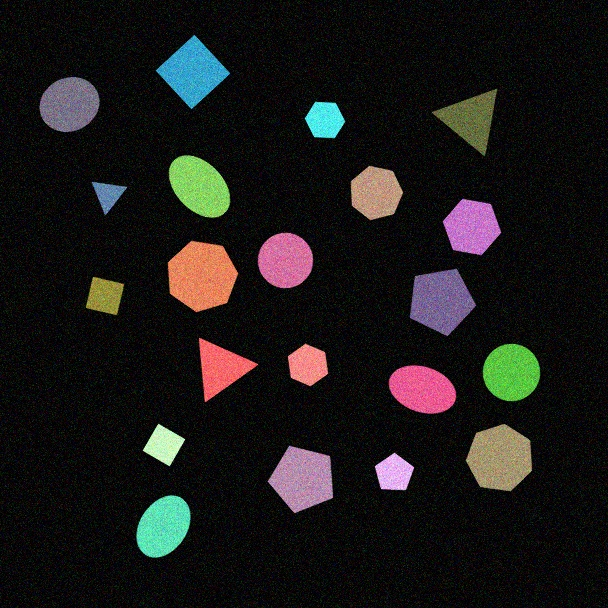Circulo: (482, 343, 541, 402), (39, 76, 100, 133), (257, 232, 314, 289)
Elipse: (168, 155, 231, 218), (136, 495, 191, 558), (388, 365, 457, 414)
Heptagono: (167, 240, 239, 313), (465, 423, 533, 492), (350, 165, 404, 221)
Hexagono: (442, 198, 502, 256), (287, 343, 329, 387), (304, 101, 346, 139)
Pentagono: (409, 268, 477, 337), (267, 445, 334, 514), (374, 452, 415, 491)
Quadrado: (155, 34, 231, 110), (142, 423, 186, 467), (85, 276, 125, 316)
Triangulo: (432, 88, 498, 157), (198, 337, 259, 403), (91, 181, 128, 216)
